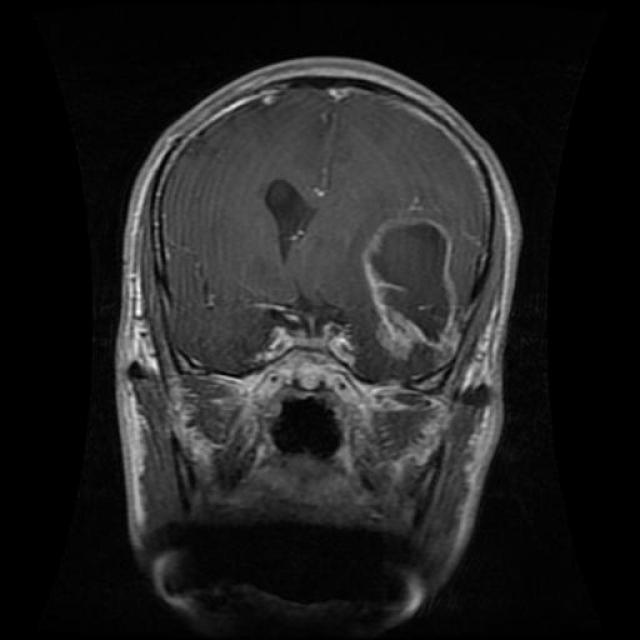Brain-Tumor: (351, 200, 480, 366), (254, 166, 332, 272)
